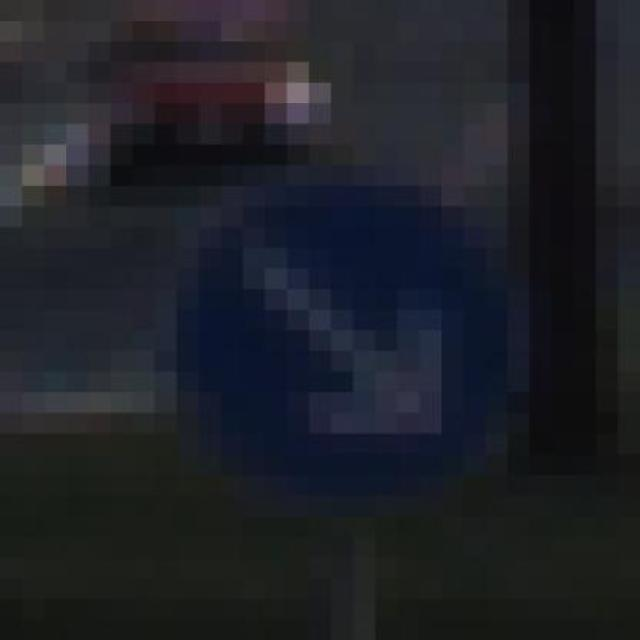Keep-Right: (154, 144, 552, 496)
